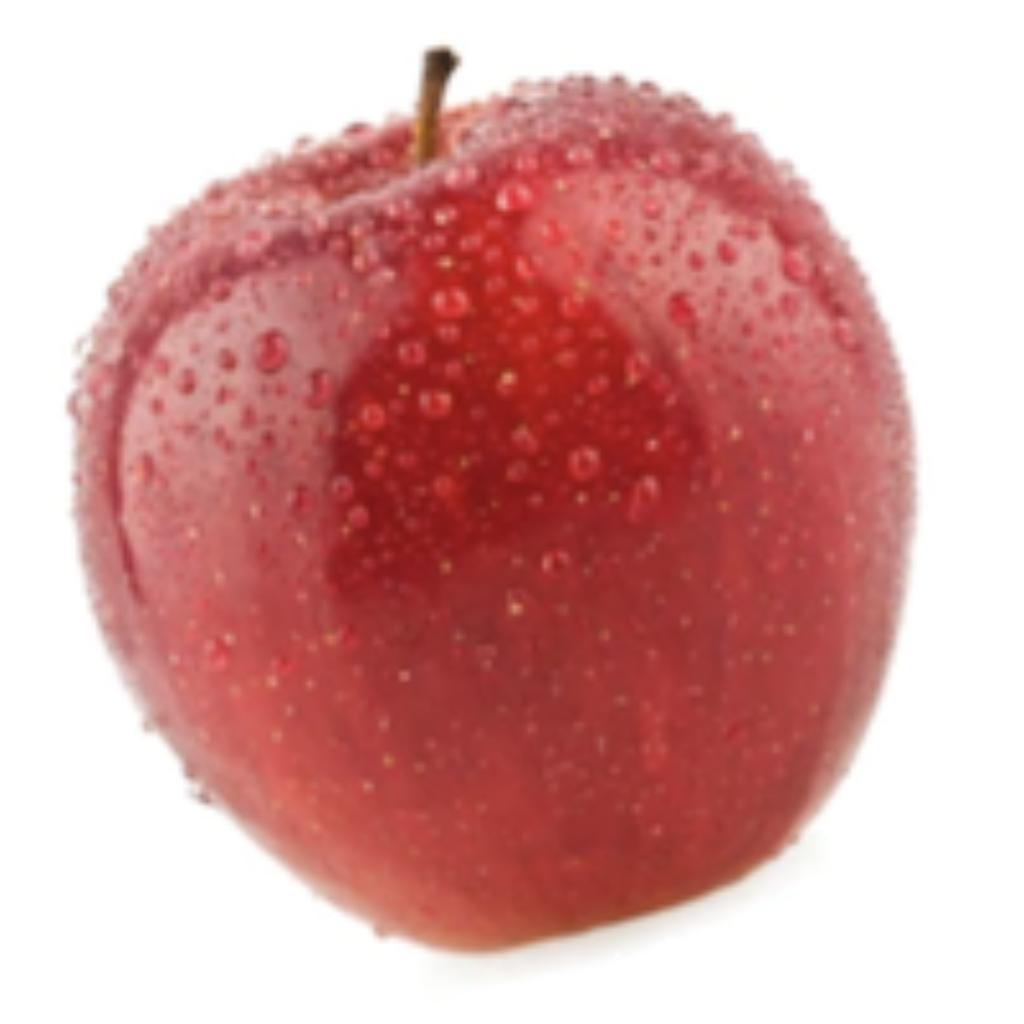apple: (56, 36, 922, 988)
